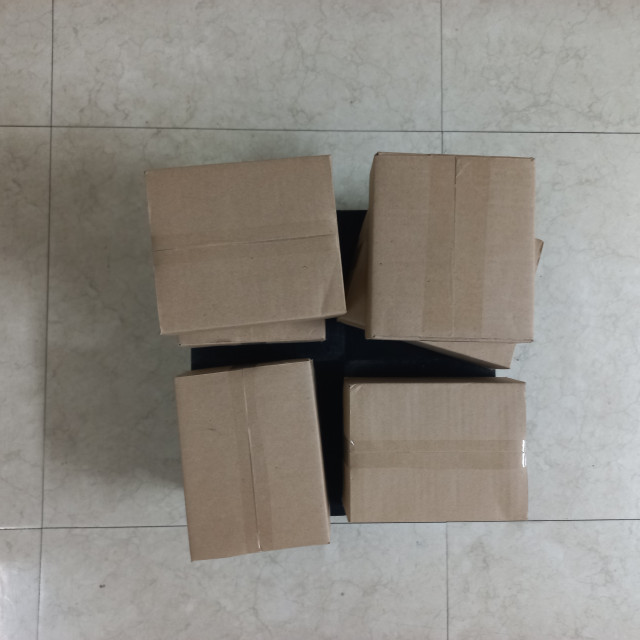box: (144, 153, 348, 338), (358, 152, 538, 355), (169, 355, 333, 567), (339, 379, 532, 525)
